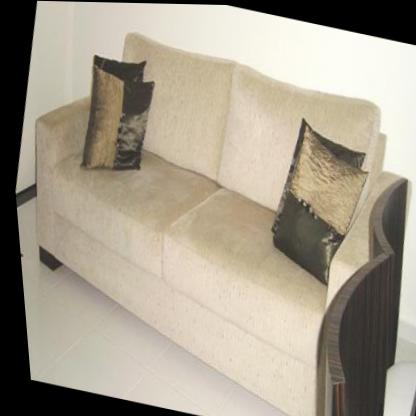Sofa: (1, 9, 416, 416)
